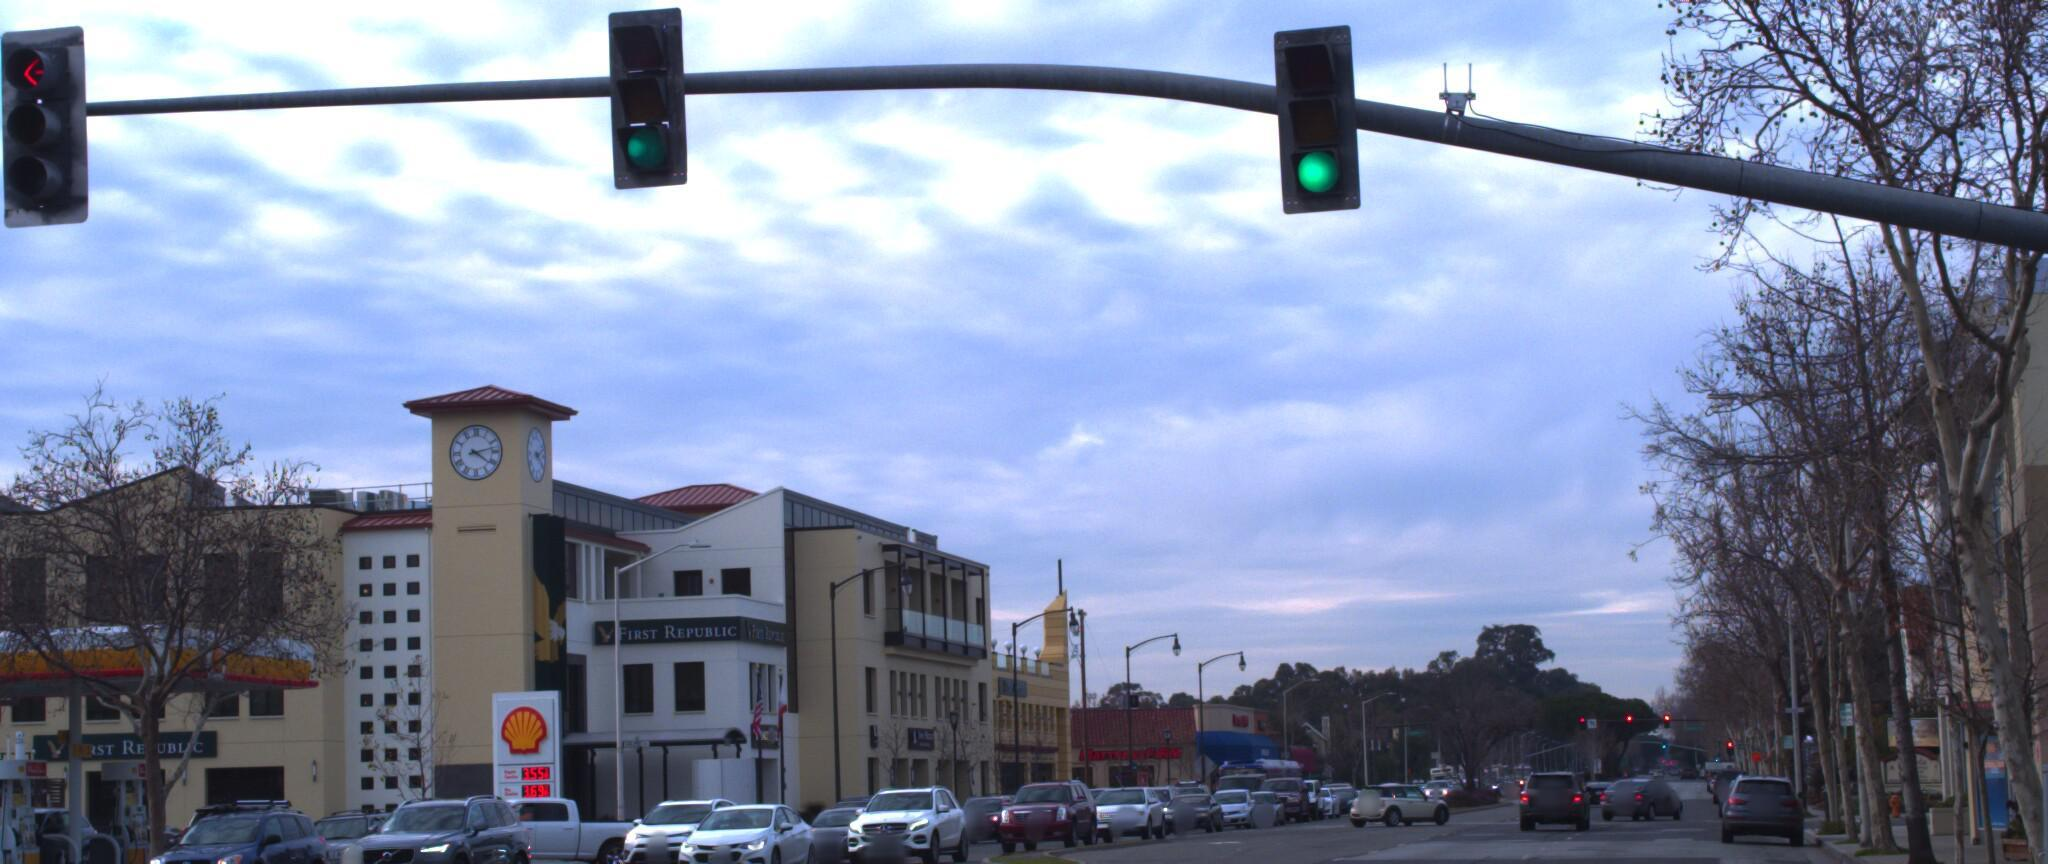car: (449, 787, 682, 864), (131, 790, 341, 864), (323, 795, 542, 864), (606, 792, 758, 864), (661, 797, 818, 864), (832, 790, 970, 864), (980, 778, 1091, 851), (1706, 779, 1795, 860)
